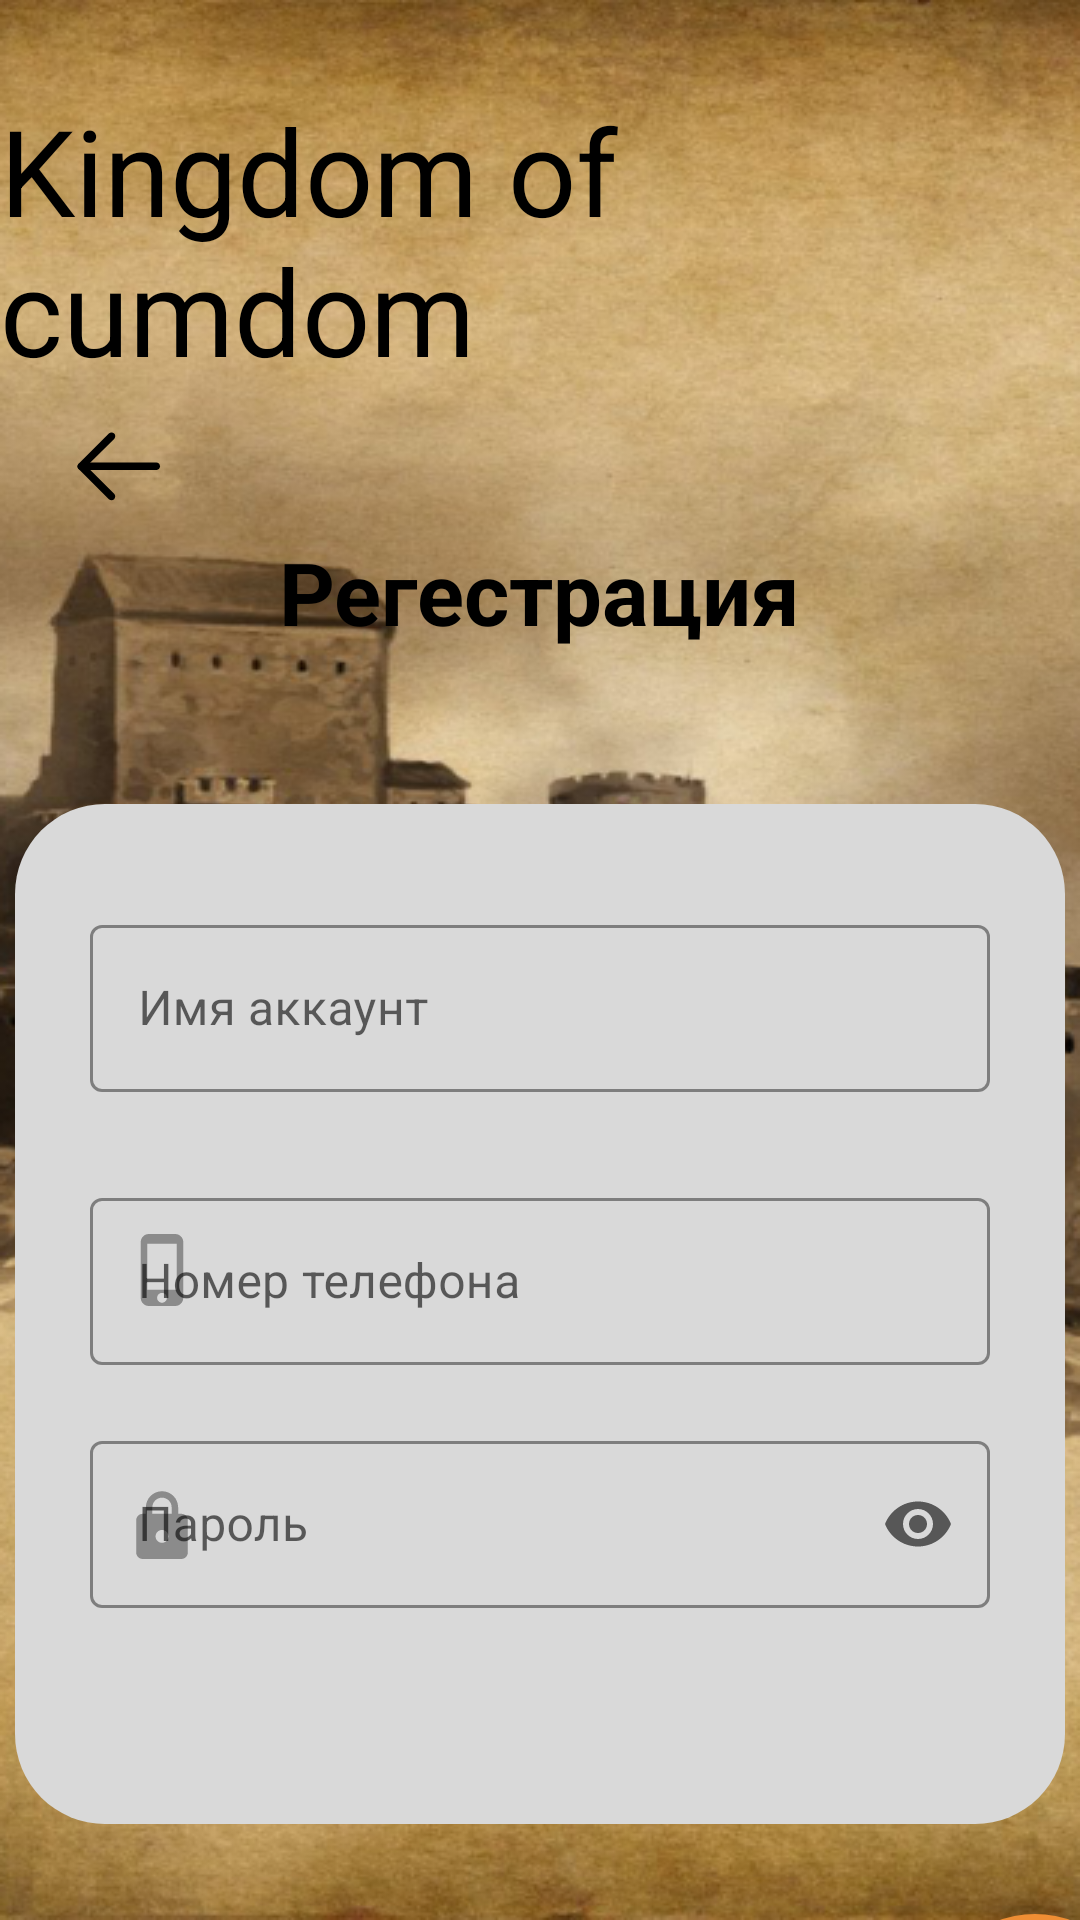

Icon click points for this 1080*1920 phone screenshot, format (x=x, y=y):
left: (x=120, y=453)
